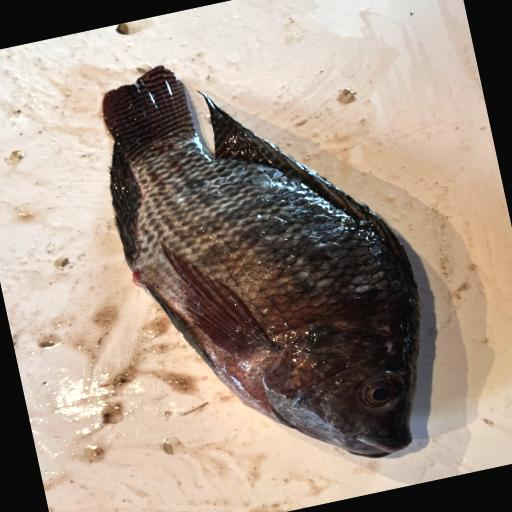Tilapia: (85, 22, 451, 501)
